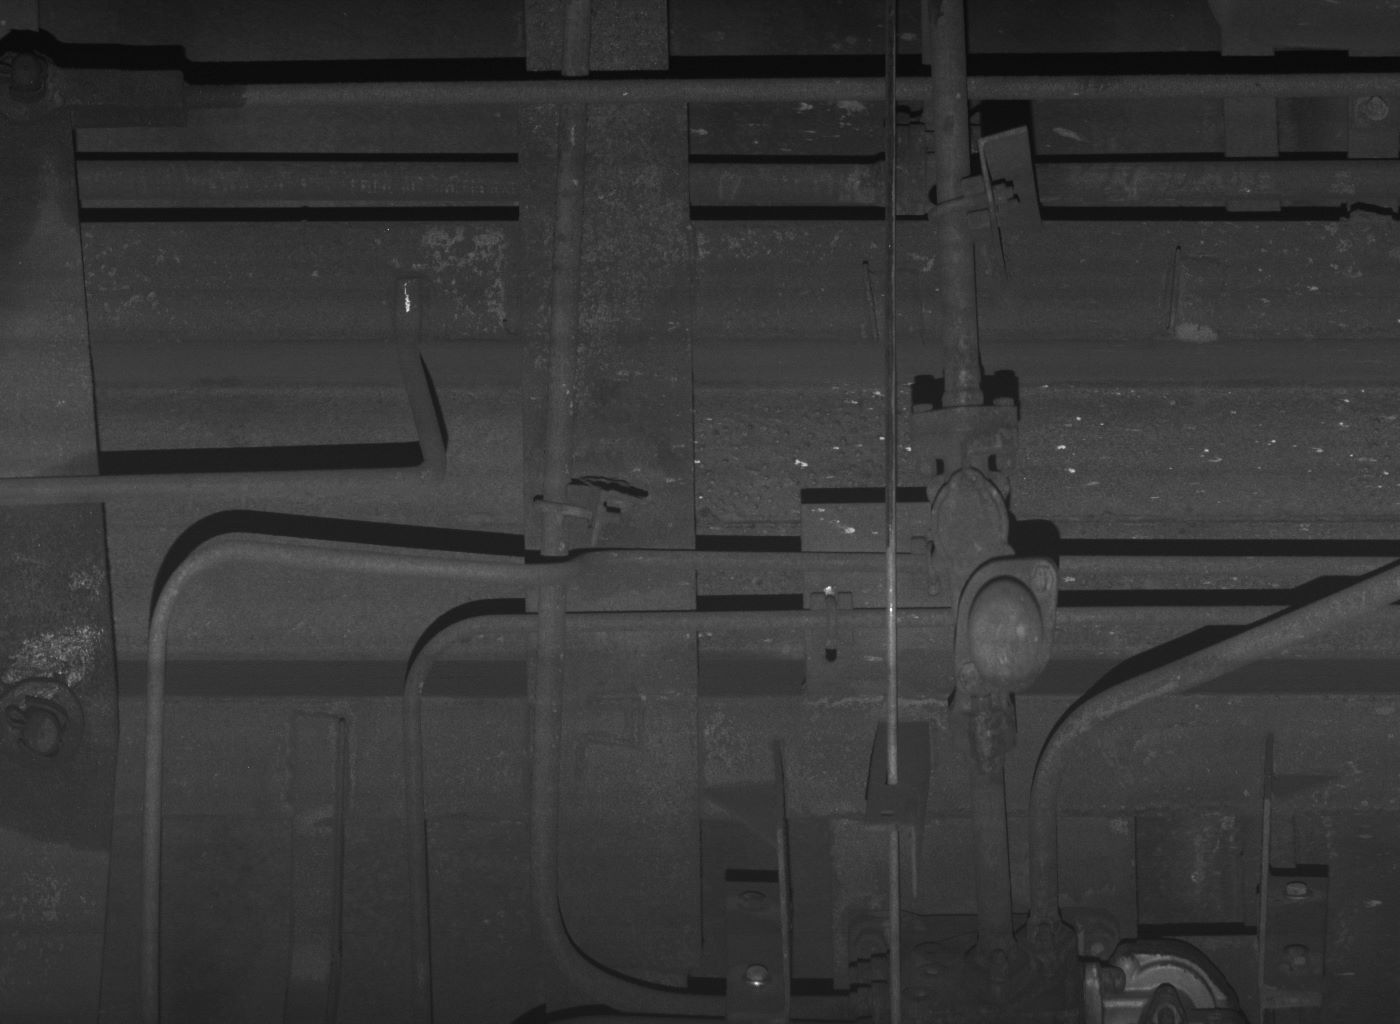normal: (926, 469, 1016, 565)
